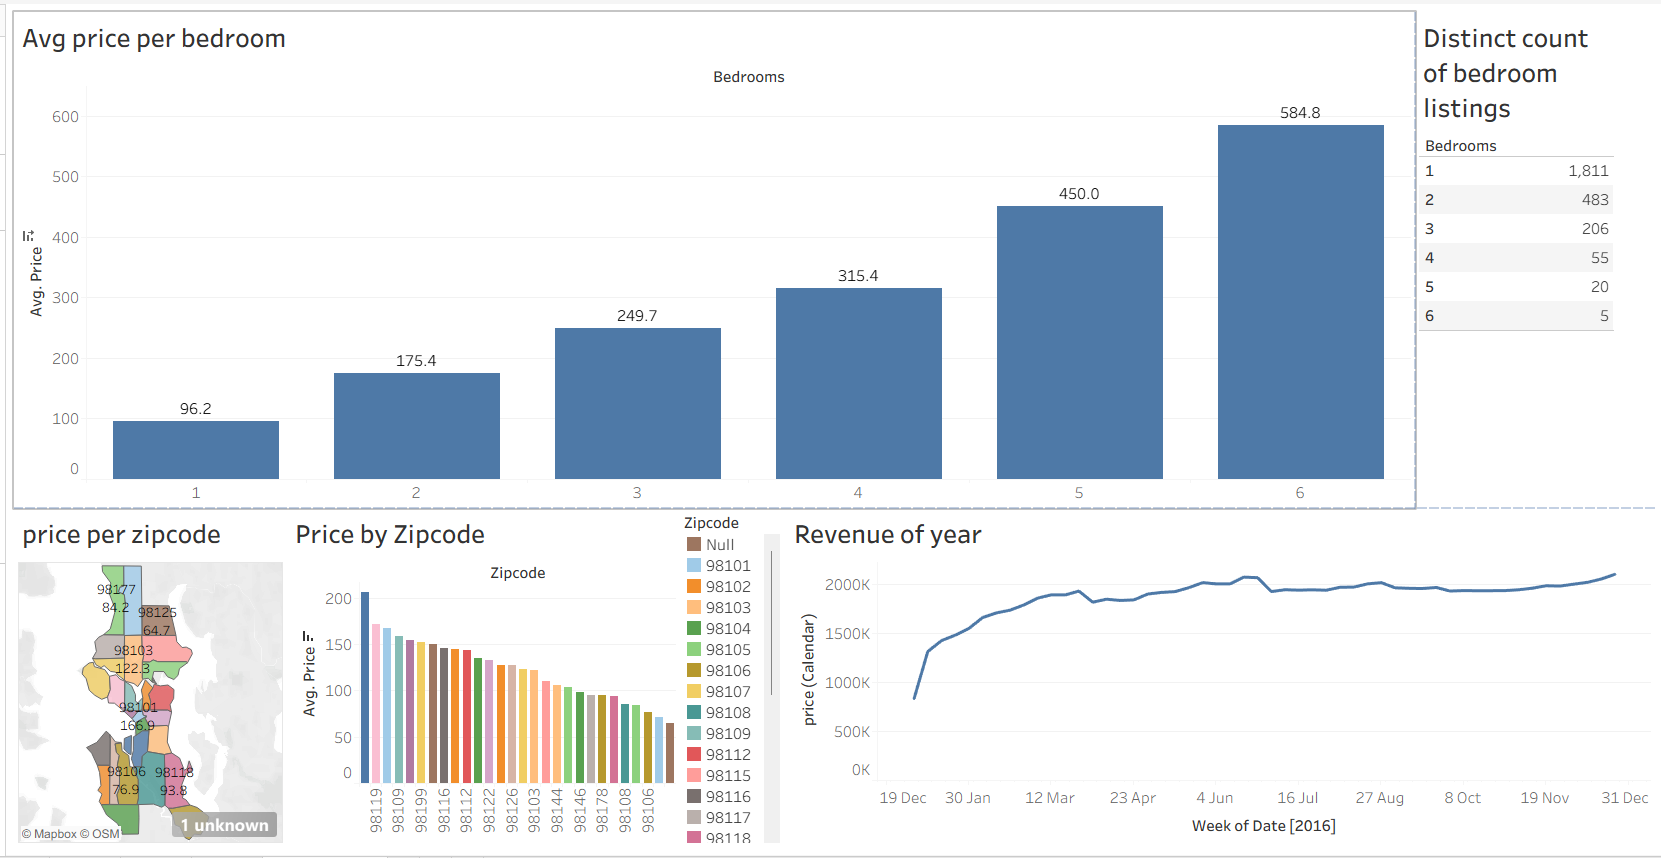

The dashboard page shown, as its layout file describes it:
{"tool":"tableau","page":{"name":"Dashboard 1","canvas":[1000,1000],"units":"permille","ordinal":0},"visuals":[{"type":"worksheet","title":"Sheet 4","mark":"Automatic","rows":["price"],"cols":["bedrooms"],"box":[4.8,9.4,845.5,582.8]},{"type":"worksheet","title":"Sheet 5","mark":"Automatic","rows":["bedrooms"],"box":[850.3,9.4,144.8,582.8]},{"type":"worksheet","title":"Sheet 2","mark":"Multipolygon","box":[4.8,592.2,164.8,398.4]},{"type":"worksheet","title":"Sheet 1","mark":"Automatic","rows":["price"],"cols":["zipcode"],"box":[169.6,592.2,237.2,398.4]},{"type":"legend","title":"Sheet 1","param":"[federated.0pzu8xf1f27i8p17ty5051e7ze8i].[none:zipcode:ok]","box":[406.8,592.2,64,398.4]},{"type":"worksheet","title":"Sheet 3","mark":"Automatic","rows":["price (Calendar)"],"cols":["date"],"box":[470.7,592.2,524.4,398.4]}]}

Visuals, with their boxes on the dashboard's canvas, which has no fixed pixel size, in thousandths of its width and height (x1, y1, x2, y2). These are canvas units, not pixel positions in the 1661x858 screenshot, which may show the page scaled, cropped or inside an application window:
"Sheet 4" worksheet: (5, 9, 850, 592)
"Sheet 5" worksheet: (850, 9, 995, 592)
"Sheet 2" worksheet (Multipolygon marks): (5, 592, 170, 991)
"Sheet 1" worksheet: (170, 592, 407, 991)
"Sheet 1" legend: (407, 592, 471, 991)
"Sheet 3" worksheet: (471, 592, 995, 991)
